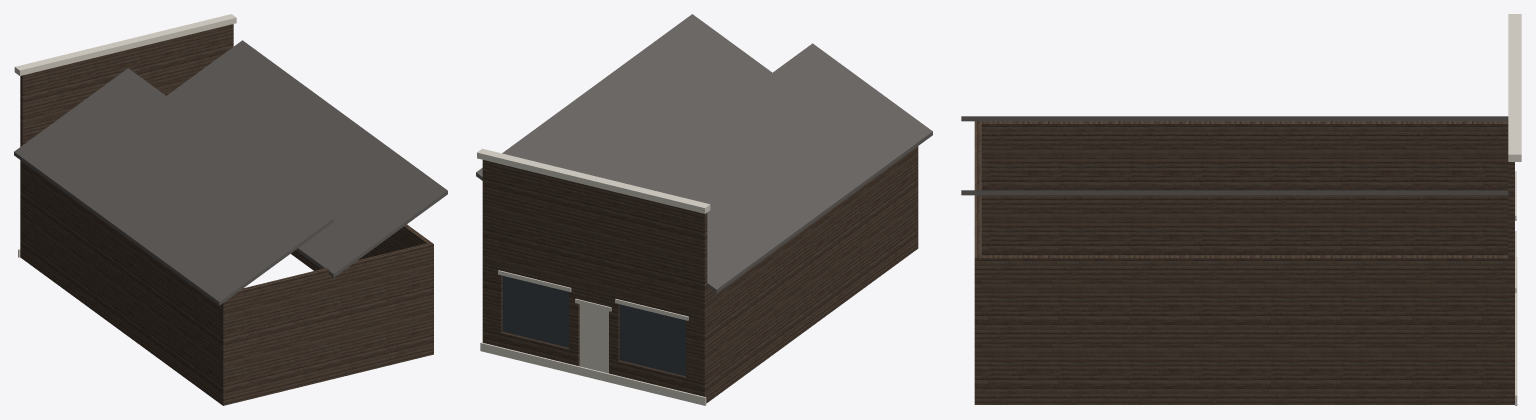
The model's file is storefront.glb.
3 views of the same model, side by side, from view 1: azimuth 30°, elevation 25°; view 2: azimuth 150°, elevation 25°; view 3: azimuth 270°, elevation 25° (orthographic). The views are drawn at different scales.
Visible parts, largest first — view 1: storefront; view 2: storefront; view 3: storefront.
Boxes of the visible parts, x1,y1,x2,y2 form: storefront: [14, 14, 447, 405]; storefront: [476, 14, 932, 405]; storefront: [961, 14, 1521, 405].
Size of the model in its own units: 7.8 by 6.18 by 12.45.
4 materials, 1 textured.
